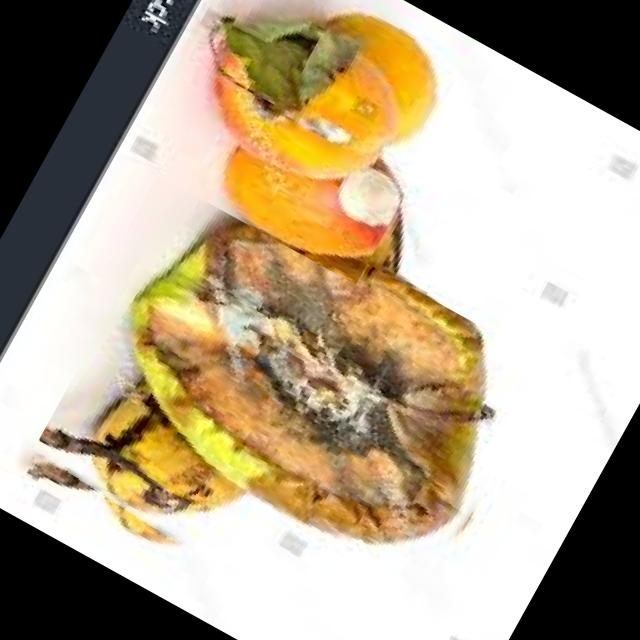Organic: (17, 166, 563, 640), (148, 0, 479, 284)
